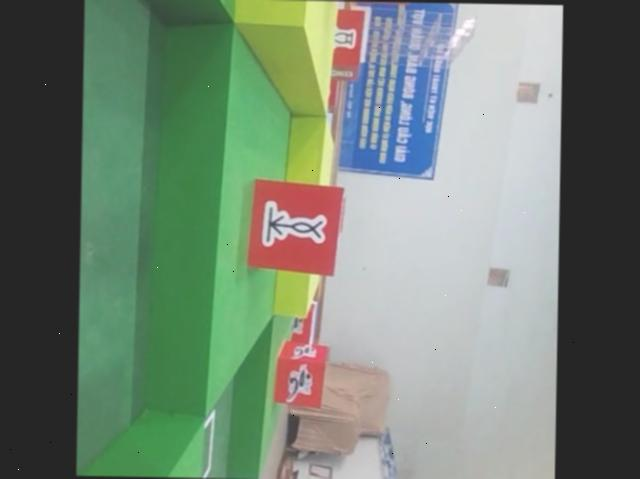R1: (276, 337, 328, 408)
R2 Real: (248, 170, 347, 276)
